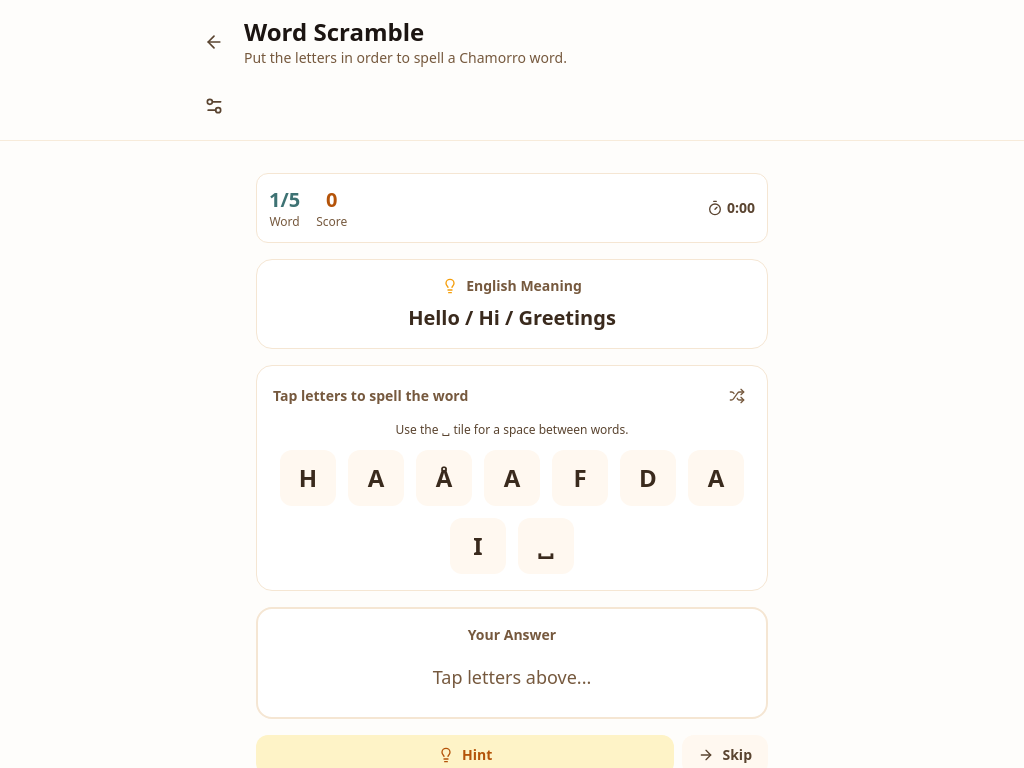
Scenario: contextual learning game navigation › scramble guards its today exit and returns to / when confirmed
The image size is (1024, 768).
Click the button named "Back to Today" at (214, 42), box x1=192 y1=20 x2=236 y2=64
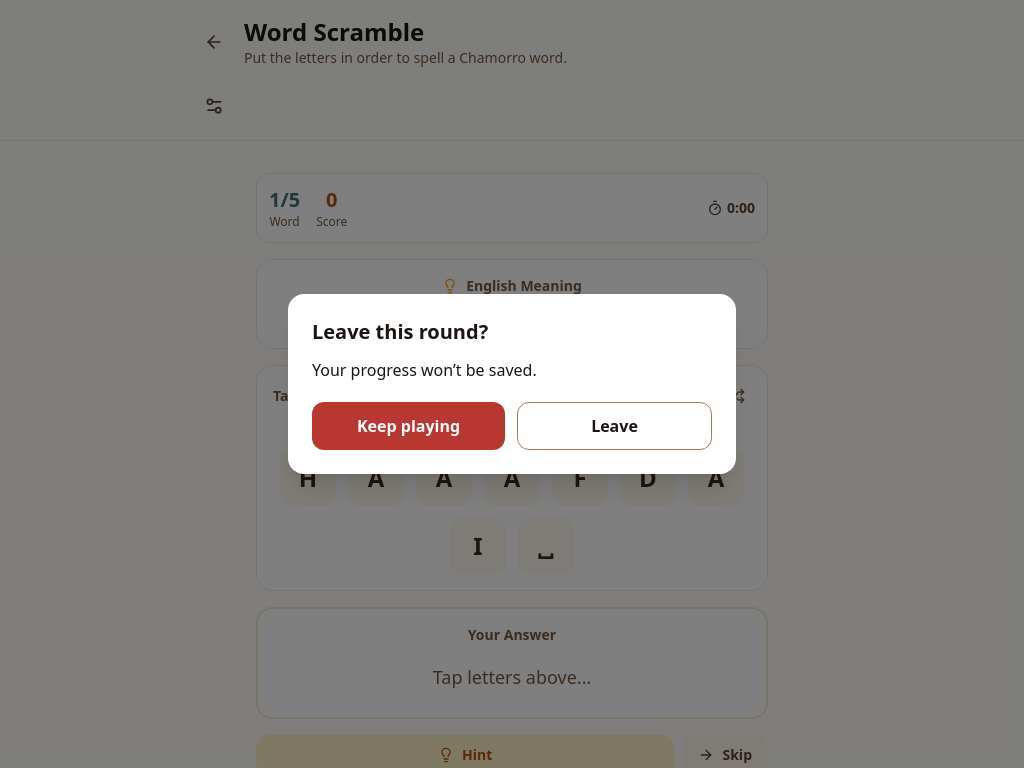
Now the dialog shows "Leave this round?", box x1=312 y1=318 x2=488 y2=345
Click the button "Keep playing" at (408, 426), box x1=312 y1=402 x2=505 y2=450
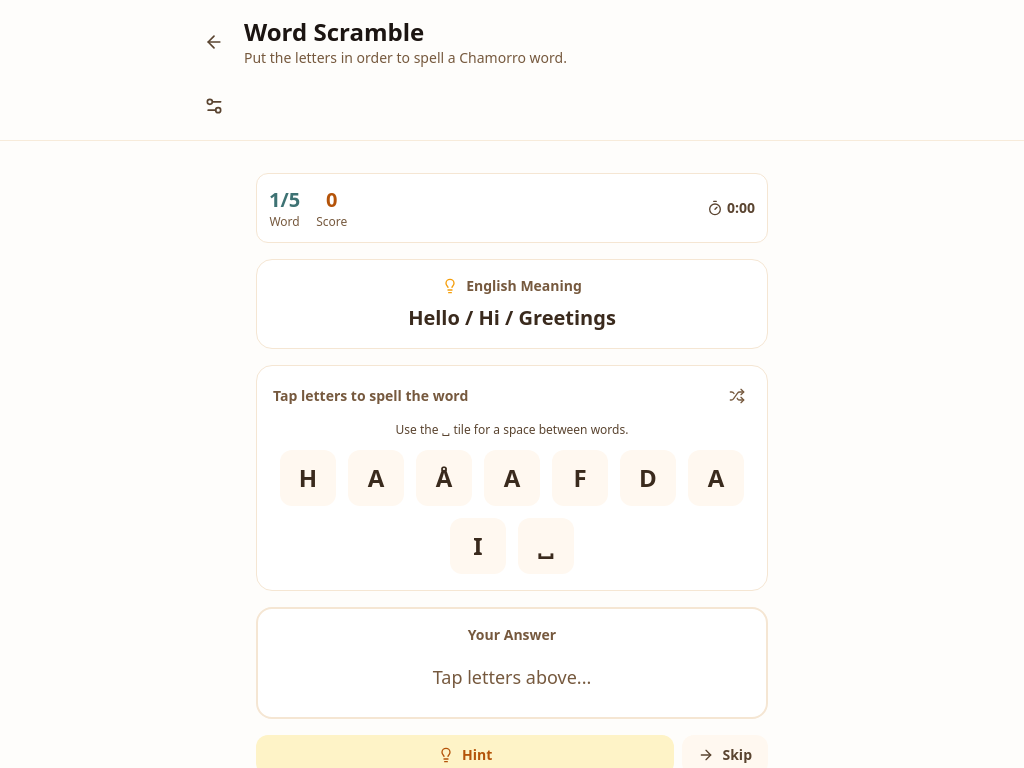
Click the button named "Back to Today" at (214, 42), box x1=192 y1=20 x2=236 y2=64
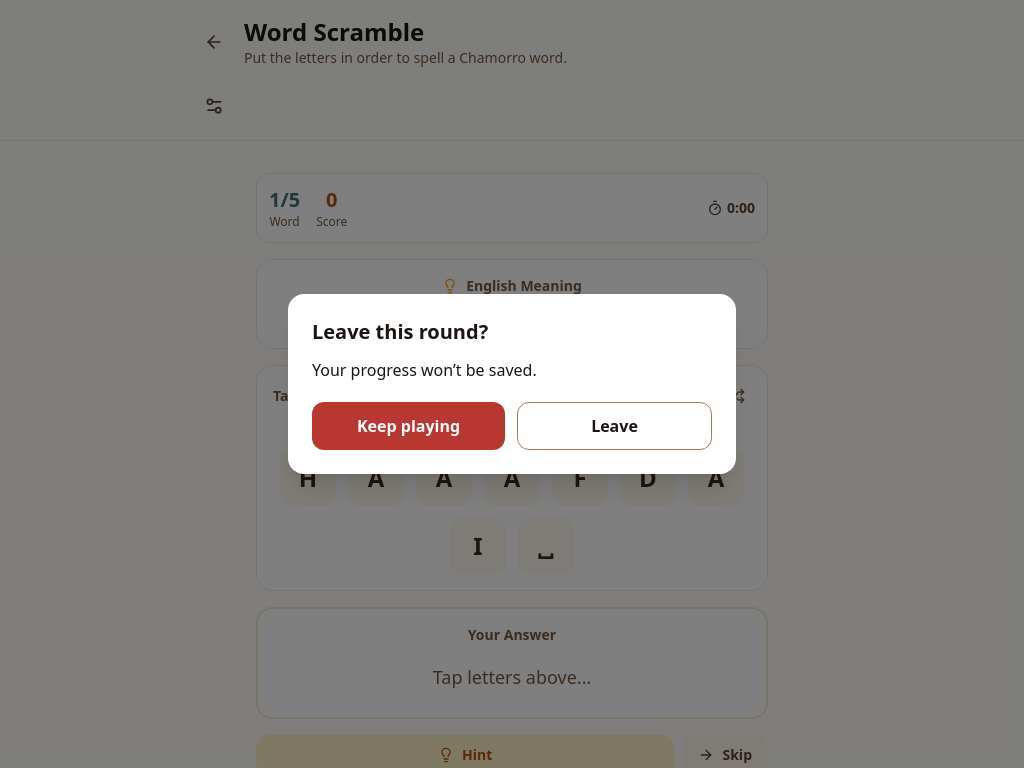
Click the button "Leave" at (614, 426), box x1=517 y1=402 x2=712 y2=450
(page scrolled)
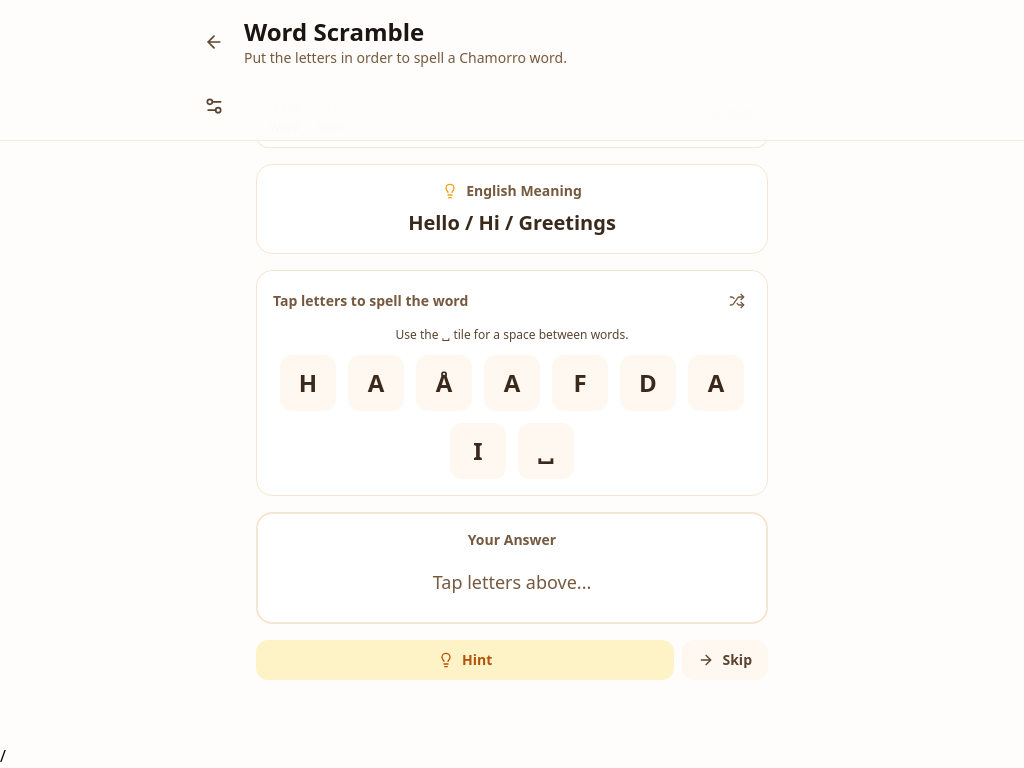
Now the text with test id "current-location" reads "/", box x1=0 y1=745 x2=6 y2=767
